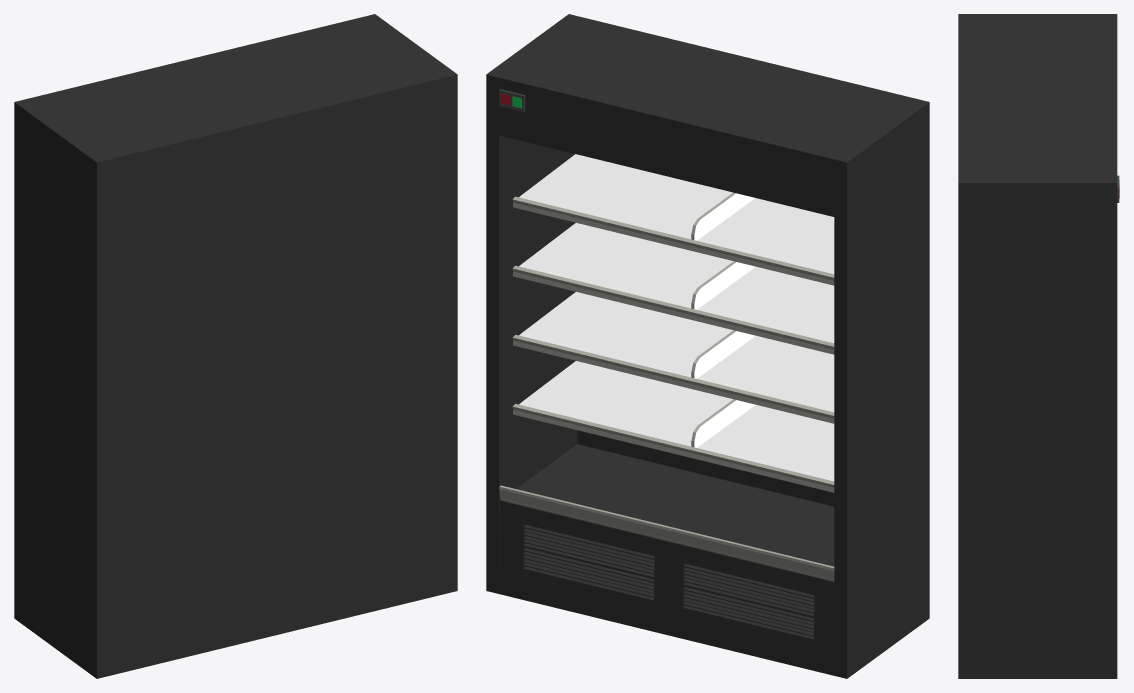
Rendered from fridge.glb.
The picture shows the model from 3 angles, left to right: view 1: azimuth 30°, elevation 25°; view 2: azimuth 150°, elevation 25°; view 3: azimuth 270°, elevation 25°; orthographic projection. The views are drawn at different scales.
Parts seen in each view (by area): view 1: Fridge.001_Palette_0; view 2: Fridge.001_Palette_0; view 3: Fridge.001_Palette_0.
Part boxes in pixels (x1=…): Fridge.001_Palette_0: x1=14, y1=14, x2=457, y2=678; Fridge.001_Palette_0: x1=486, y1=14, x2=929, y2=678; Fridge.001_Palette_0: x1=958, y1=14, x2=1119, y2=678.
Size of the model in its own units: 12.46 by 17.04 by 5.02.
2 materials, 1 textured.
